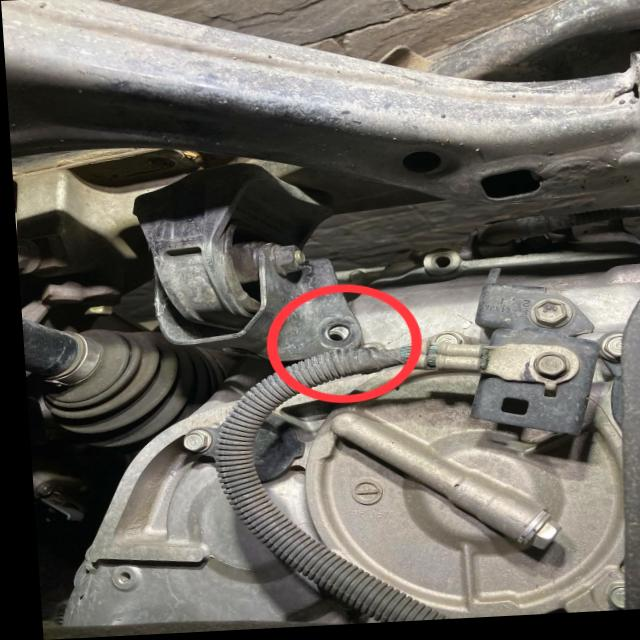Missing bolt: (312, 323, 349, 350)
Regular bolt: (516, 527, 557, 557), (527, 357, 564, 386), (528, 305, 565, 332), (268, 247, 301, 277), (593, 338, 623, 364), (177, 430, 206, 454), (593, 588, 617, 615), (427, 334, 464, 351), (29, 483, 46, 496)
